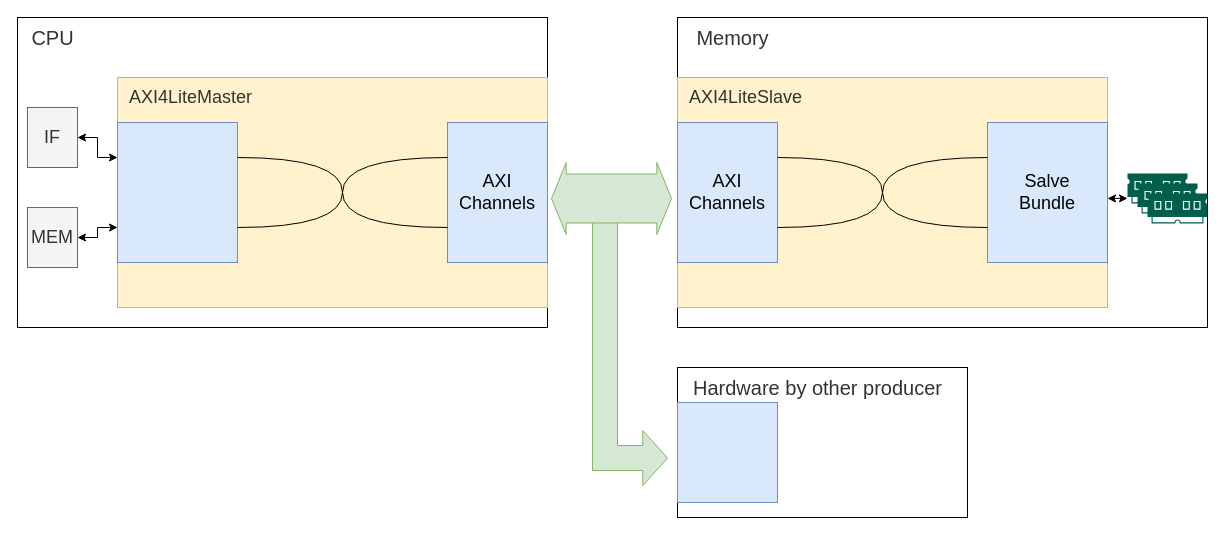
Some shapes in this 1225 by 535 pixel diagram are drawn without their labels. Here are the shapes that lost their labels. From the top down, the centre of each, then its label:
At pixel 177 192: "Master Bundle".
At pixel 611 198: "Bus".
At pixel 727 452: "AXI Compatible Interface".
